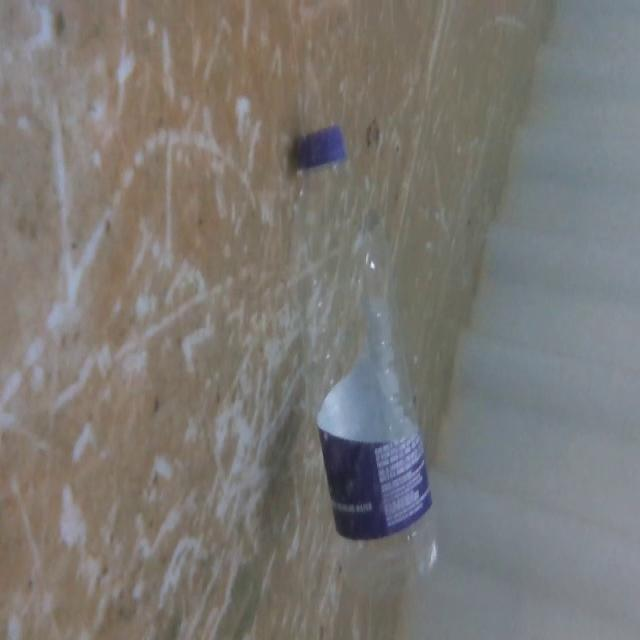plastic bottle: (286, 114, 456, 601)
